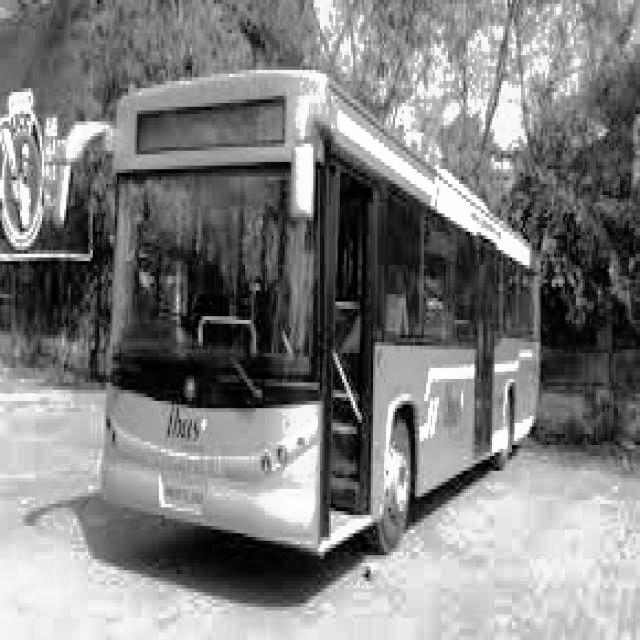Bus: (103, 74, 543, 560)
